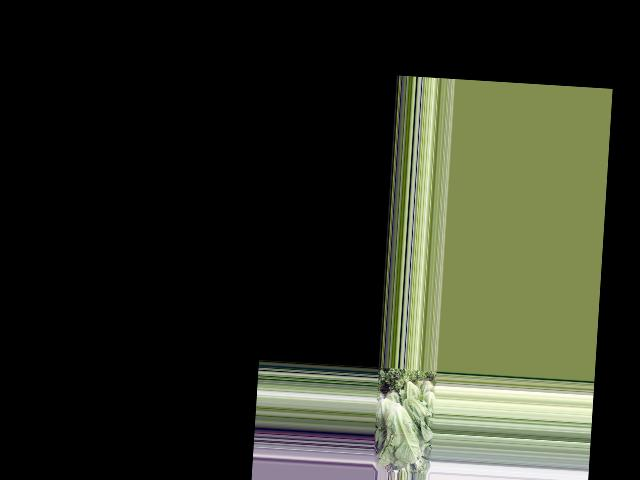lettuce: (401, 395, 433, 443)
